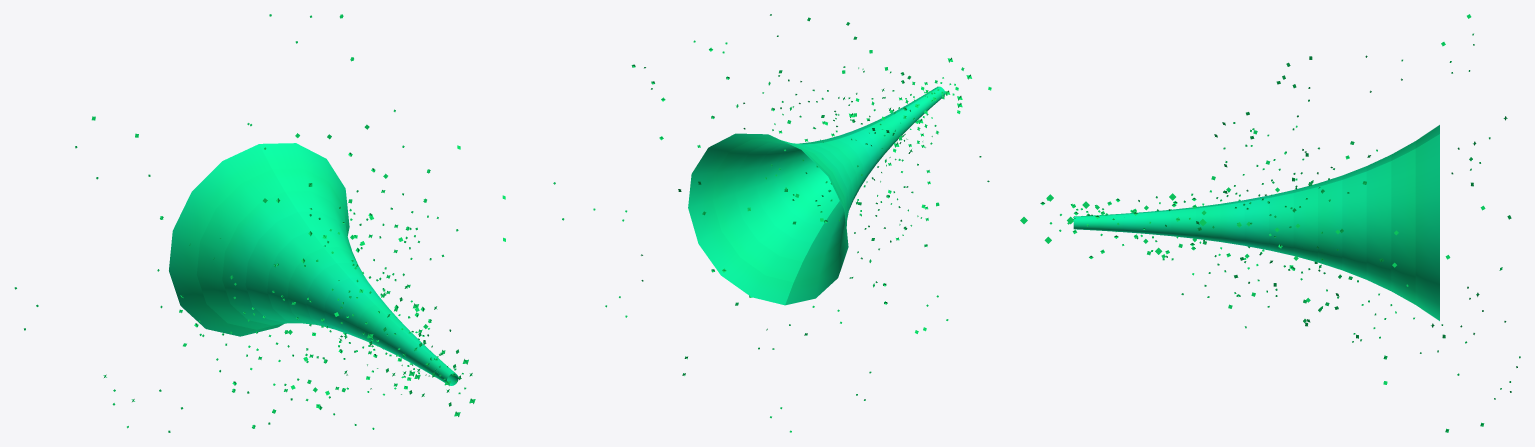
The picture shows the model from 3 angles, left to right: view 1: azimuth 30°, elevation 25°; view 2: azimuth 150°, elevation 25°; view 3: azimuth 270°, elevation 25°; orthographic projection. The views are drawn at different scales.
Parts seen in each view (by area): view 1: obj21, obj44, obj28, obj24; view 2: obj21, obj44, obj28, obj24; view 3: obj21, obj44, obj28, obj24.
Boxes of the visible parts, x1,y1,x2,y2 form: obj21: [169, 143, 458, 385]; obj44: [14, 14, 564, 432]; obj28: [272, 190, 461, 429]; obj24: [160, 133, 458, 428]; obj21: [688, 86, 945, 305]; obj44: [593, 14, 991, 432]; obj28: [747, 50, 964, 250]; obj24: [711, 36, 944, 305]; obj21: [1073, 125, 1439, 320]; obj44: [1020, 14, 1520, 432]; obj28: [1040, 81, 1414, 334]; obj24: [1074, 56, 1473, 338].
Size of the model in its own units: 19.58 by 17.45 by 20.51.
4 materials, 1 textured.
